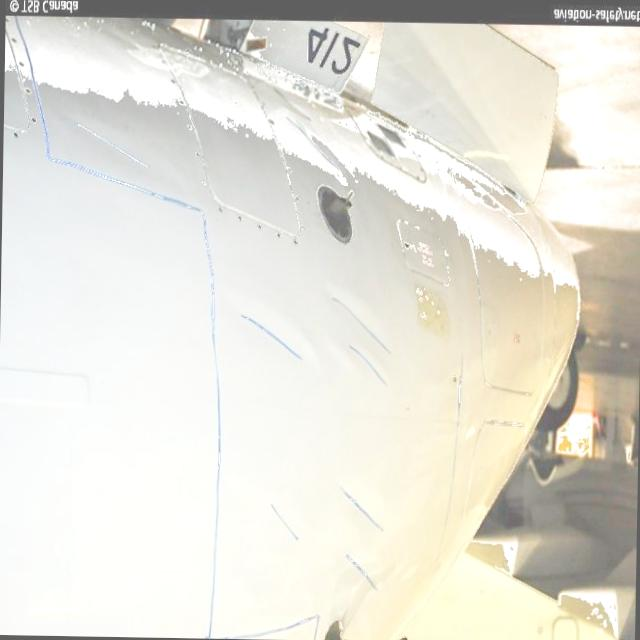dent: (335, 484, 383, 531)
